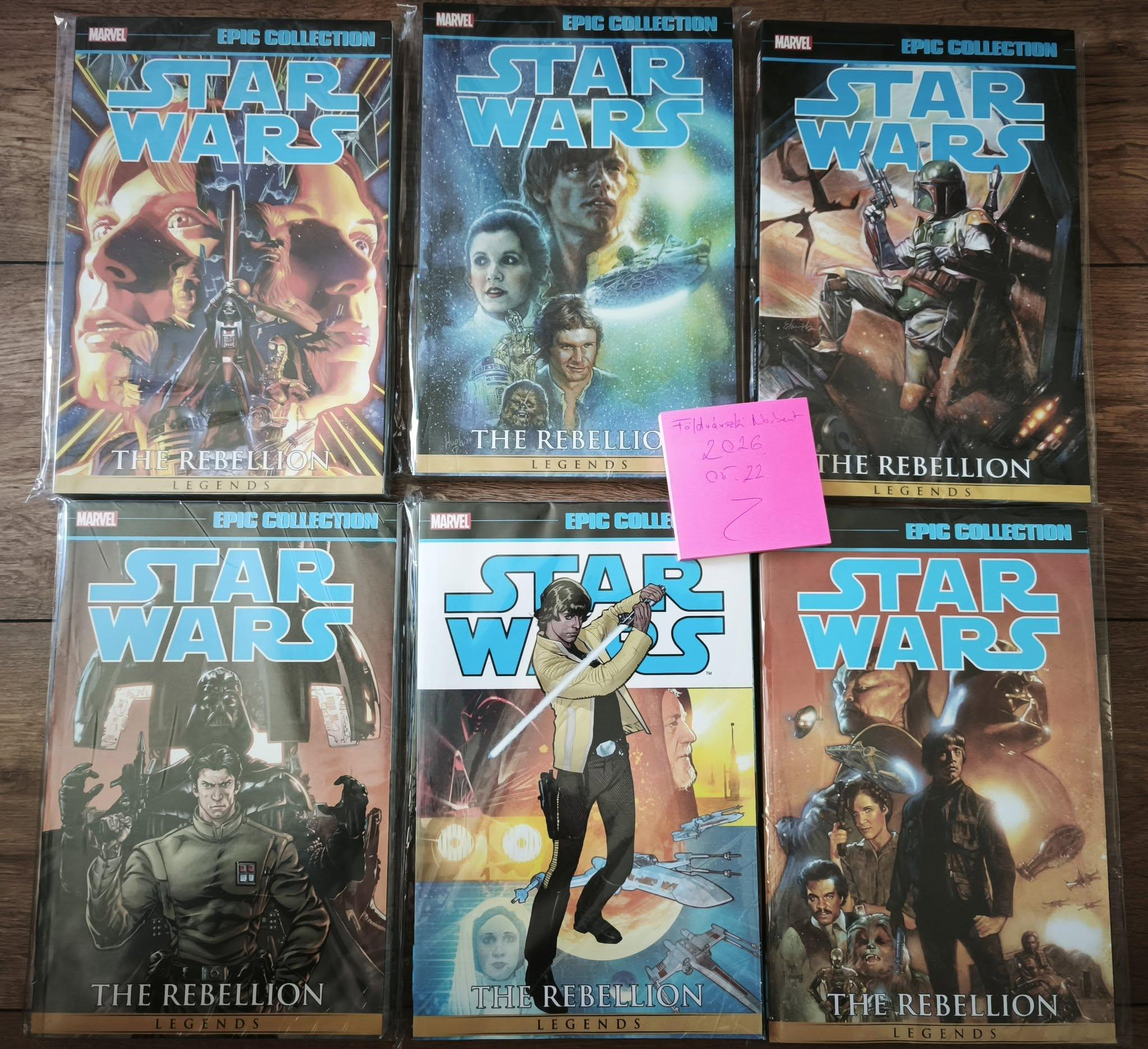comic: (758, 501, 1125, 1049), (30, 499, 399, 1037), (404, 498, 763, 1042), (43, 12, 397, 502), (754, 20, 1097, 502), (407, 4, 742, 478)
